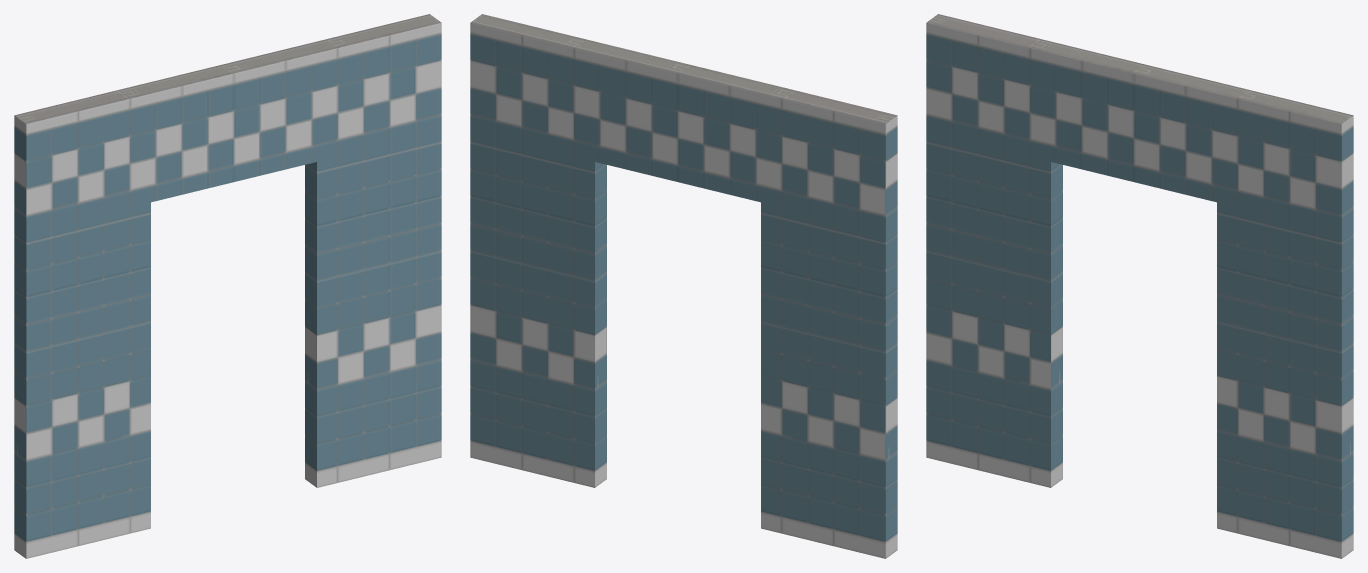
The model's file is wall8_2.fbx.
3 views of the same model, side by side, from view 1: azimuth 30°, elevation 25°; view 2: azimuth 150°, elevation 25°; view 3: azimuth 330°, elevation 25° (orthographic).
Visible parts, largest first — view 1: wall8_bathroom_b; view 2: wall8_bathroom_b; view 3: wall8_bathroom_b.
Boxes of the visible parts, <box> form: wall8_bathroom_b: <box>14,14,441,558</box>; wall8_bathroom_b: <box>470,14,897,558</box>; wall8_bathroom_b: <box>926,14,1353,558</box>.
Size of the model in its own units: 400 by 400 by 20.
